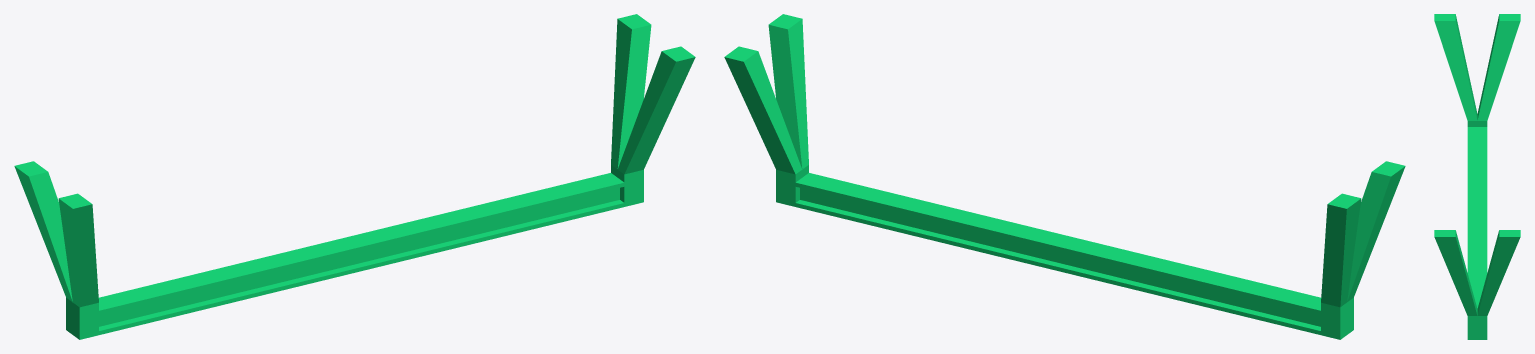
The model's file is Arena_002_GantryBar.fbx.
3 views of the same model, side by side, from view 1: azimuth 30°, elevation 25°; view 2: azimuth 150°, elevation 25°; view 3: azimuth 270°, elevation 25° (orthographic). The views are drawn at different scales.
Parts seen in each view (by area): view 1: Arena_002_GantryBar; view 2: Arena_002_GantryBar; view 3: Arena_002_GantryBar.
Part boxes in pixels (x1,y1,x2,y2): Arena_002_GantryBar: [14, 14, 695, 339]; Arena_002_GantryBar: [724, 14, 1405, 339]; Arena_002_GantryBar: [1434, 14, 1520, 339].
Bounding box in the file's own units: 3200 × 760 × 524.
